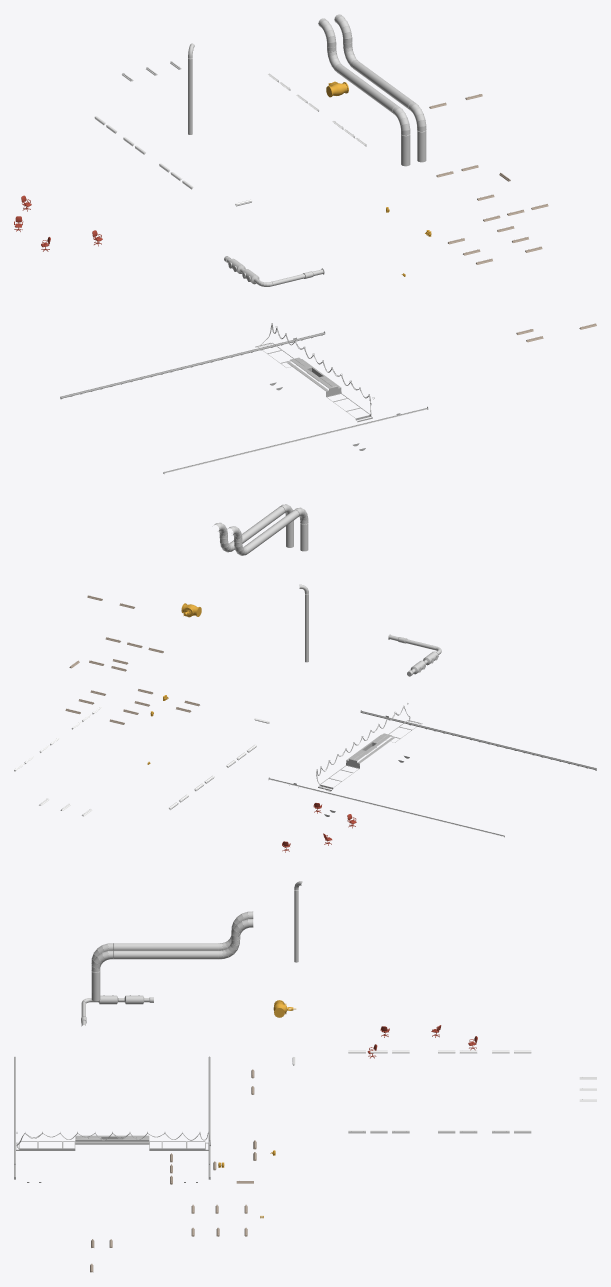
The picture shows the model from 3 angles, top to bottom: view 1: azimuth 30°, elevation 25°; view 2: azimuth 150°, elevation 25°; view 3: azimuth 270°, elevation 25°; orthographic projection. The views are drawn at different scales.
Visible parts, largest first — view 1: n0_lr0_c0_s_cb_b_nomerge10_metal_pipe_002.meshset_0_c0_0, n0_lr0_agg_merge_nuke_industrial_props_002_2_fragment1, n0_lr0_agg_prop_nuke_fluorescent_light_on_color_0_fragment1_, n0_lr0_agg_prop_nuke_fluorescent_light_on_color_0_fragment77; view 2: n0_lr0_c0_s_cb_b_nomerge10_metal_pipe_002.meshset_0_c0_0, n0_lr0_agg_merge_nuke_industrial_props_002_2_fragment1, n0_lr0_agg_prop_nuke_fluorescent_light_on_color_0_fragment1_, n0_lr0_agg_prop_nuke_fluorescent_light_on_color_0_fragment77; view 3: n0_lr0_c0_s_cb_b_nomerge10_metal_pipe_002.meshset_0_c0_0, n0_lr0_agg_merge_nuke_industrial_props_002_2_fragment1, n0_lr0_agg_prop_nuke_fluorescent_light_on_color_0_fragment77, n0_lr0_agg_prop_nuke_fluorescent_light_on_color_0_fragment1_.
Boxes of the visible parts, x1,y1,x2,y2 form: n0_lr0_c0_s_cb_b_nomerge10_metal_pipe_002.meshset_0_c0_0: (188,14,426,286); n0_lr0_agg_merge_nuke_industrial_props_002_2_fragment1: (60,323,428,473); n0_lr0_agg_prop_nuke_fluorescent_light_on_color_0_fragment1_: (429,94,596,342); n0_lr0_agg_prop_nuke_fluorescent_light_on_color_0_fragment77: (94,61,366,206); n0_lr0_c0_s_cb_b_nomerge10_metal_pipe_002.meshset_0_c0_0: (214,504,441,676); n0_lr0_agg_merge_nuke_industrial_props_002_2_fragment1: (268,703,596,837); n0_lr0_agg_prop_nuke_fluorescent_light_on_color_0_fragment1_: (65,595,199,724); n0_lr0_agg_prop_nuke_fluorescent_light_on_color_0_fragment77: (14,707,269,816); n0_lr0_c0_s_cb_b_nomerge10_metal_pipe_002.meshset_0_c0_0: (81,881,302,1026); n0_lr0_agg_merge_nuke_industrial_props_002_2_fragment1: (14,1056,210,1182); n0_lr0_agg_prop_nuke_fluorescent_light_on_color_0_fragment77: (292,1050,596,1133); n0_lr0_agg_prop_nuke_fluorescent_light_on_color_0_fragment1_: (90,1069,256,1272).
Bounding box in the file's own units: 1887 × 1241 × 2134.
